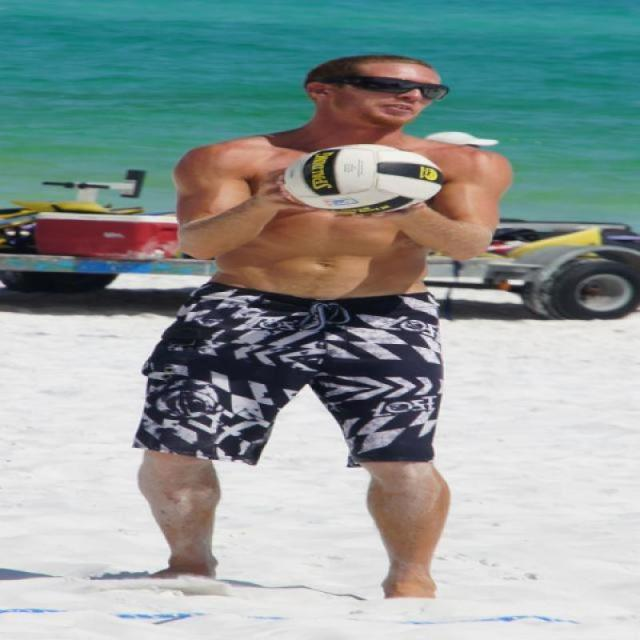volleyball: (280, 141, 444, 218)
